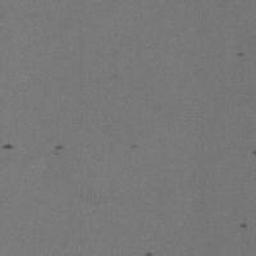Inclusion: (54, 145, 63, 156), (3, 142, 13, 150), (131, 142, 141, 150), (236, 51, 247, 58), (145, 251, 154, 256), (241, 223, 248, 229)
